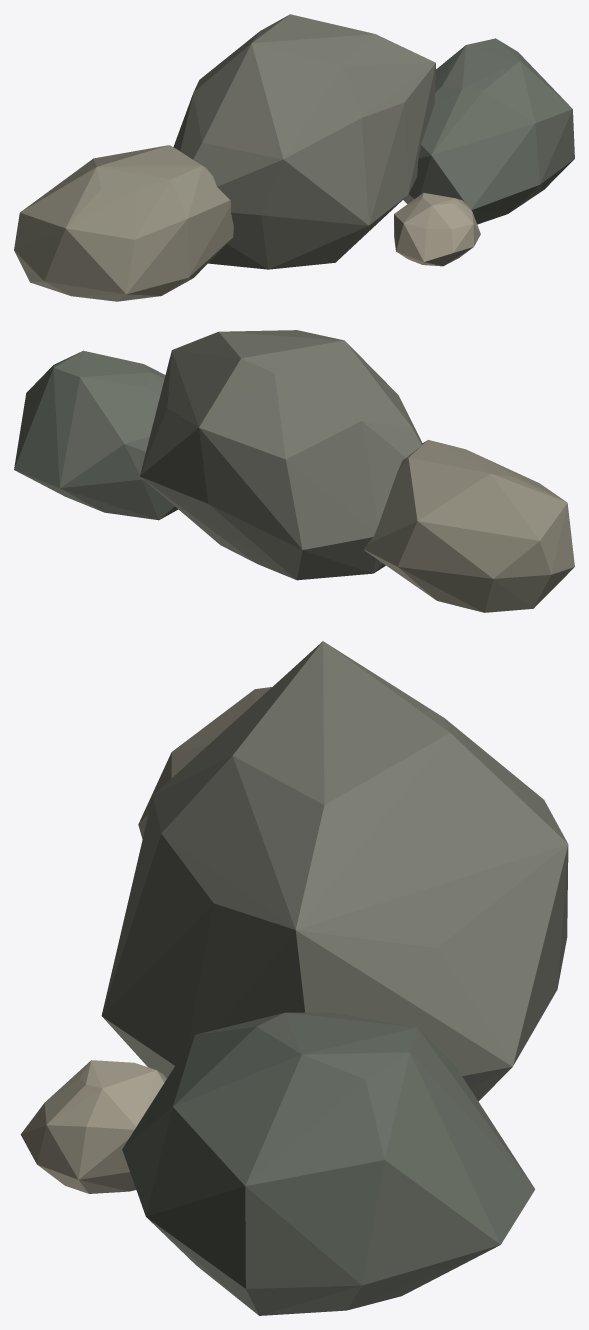
The model's file is FSA_ENV_Outdoor_Rock_03_Ridge.glb.
3 renders of one model, top to bottom at view 1: azimuth 30°, elevation 25°; view 2: azimuth 150°, elevation 25°; view 3: azimuth 270°, elevation 25°, orthographic. The views are drawn at different scales.
Visible parts, largest first — view 1: Spine, WestShelf, EastBreak, Shard; view 2: Spine, WestShelf, EastBreak; view 3: Spine, EastBreak, Shard, WestShelf.
Boxes of the visible parts, x1=… form: Spine: x1=173, y1=14, x2=435, y2=269; WestShelf: x1=14, y1=145, x2=233, y2=301; EastBreak: x1=403, y1=38, x2=574, y2=224; Shard: x1=394, y1=193, x2=480, y2=266; Spine: x1=140, y1=330, x2=422, y2=580; WestShelf: x1=363, y1=440, x2=574, y2=612; EastBreak: x1=14, y1=350, x2=178, y2=520; Spine: x1=101, y1=641, x2=568, y2=1101; EastBreak: x1=122, y1=1012, x2=535, y2=1315; Shard: x1=20, y1=1060, x2=166, y2=1193; WestShelf: x1=138, y1=687, x2=271, y2=838.
Bounding box in the file's own units: 5.47 × 2 × 2.45.
